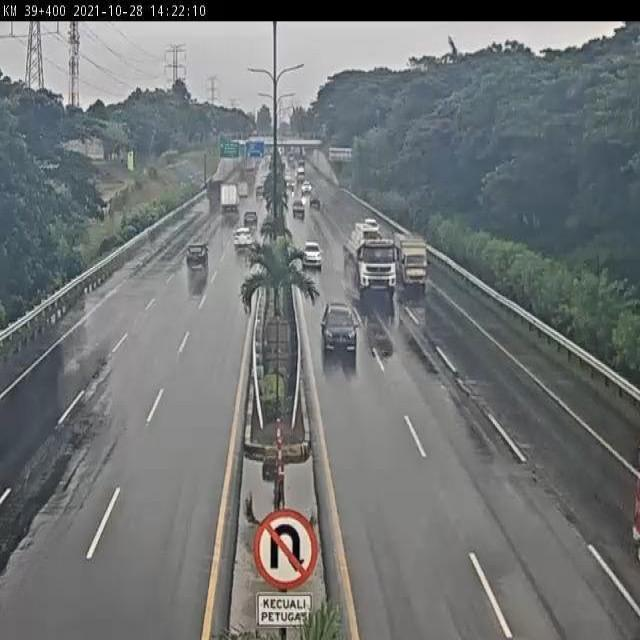car: (322, 303, 359, 360), (184, 238, 210, 274), (298, 237, 323, 268), (232, 228, 255, 253)
truck-s-: (391, 227, 428, 290)
truck-xl-: (343, 216, 397, 293)
